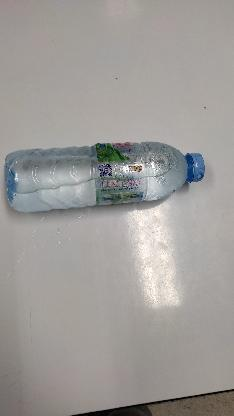Plastic Bottle: (0, 138, 210, 216)
